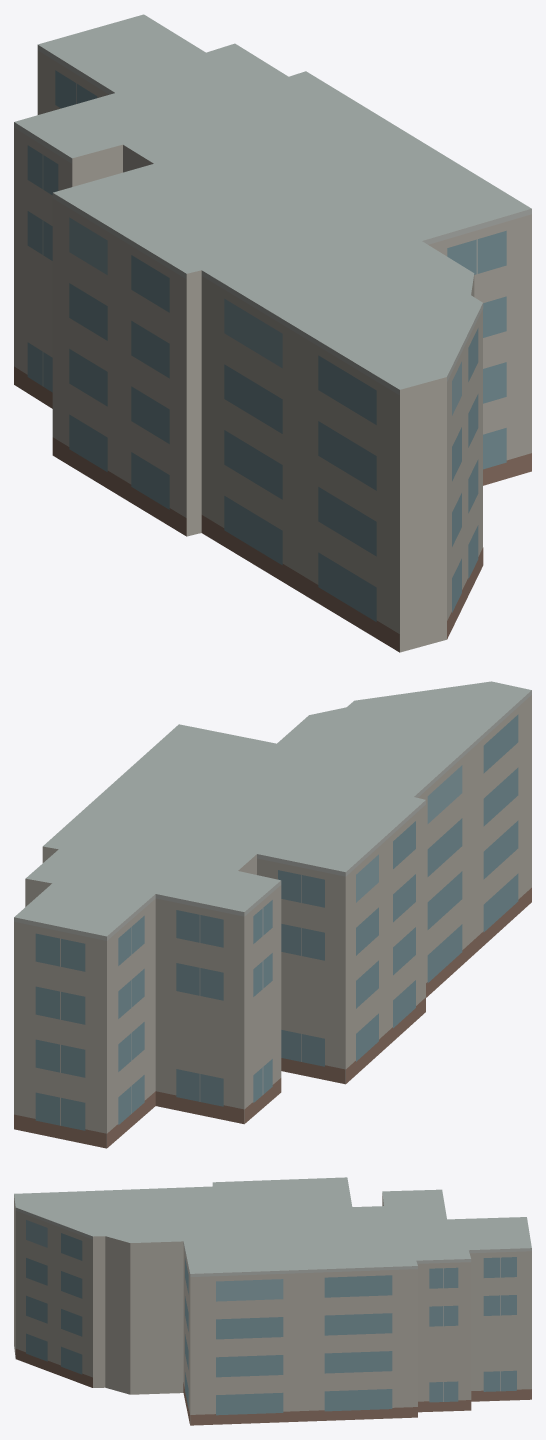
Rendered from survey-upis-32607024.glb.
3 views of the same model, one above another, from view 1: azimuth 30°, elevation 25°; view 2: azimuth 150°, elevation 25°; view 3: azimuth 270°, elevation 25° (orthographic). The views are drawn at different scales.
Visible parts, largest first — view 1: survey-upis-32607024.tmp; view 2: survey-upis-32607024.tmp; view 3: survey-upis-32607024.tmp.
Boxes of the visible parts, bbox=[...] form: survey-upis-32607024.tmp: bbox=[14, 14, 531, 652]; survey-upis-32607024.tmp: bbox=[14, 681, 531, 1148]; survey-upis-32607024.tmp: bbox=[14, 1177, 531, 1425].
Size of the model in its own units: 15.72 by 11.5 by 35.61.
